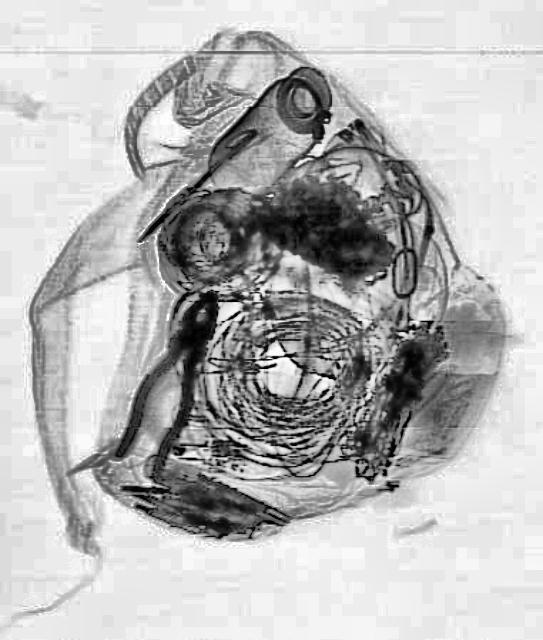Pliers: (105, 276, 237, 482)
